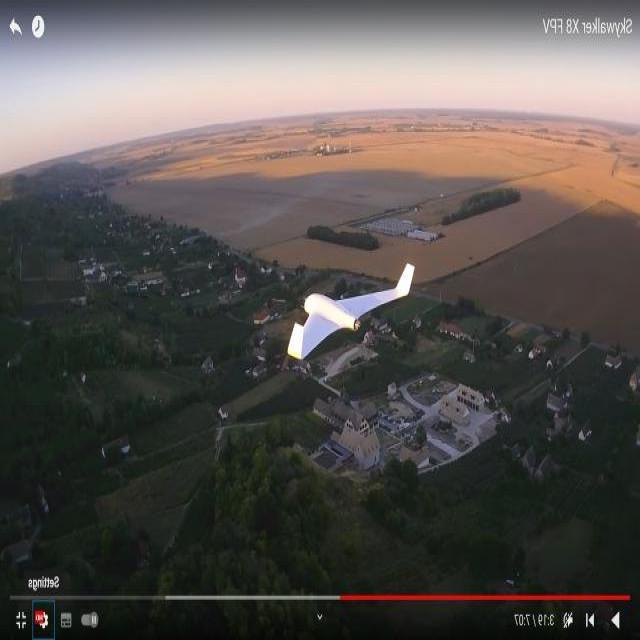iha: (322, 298, 383, 334)
